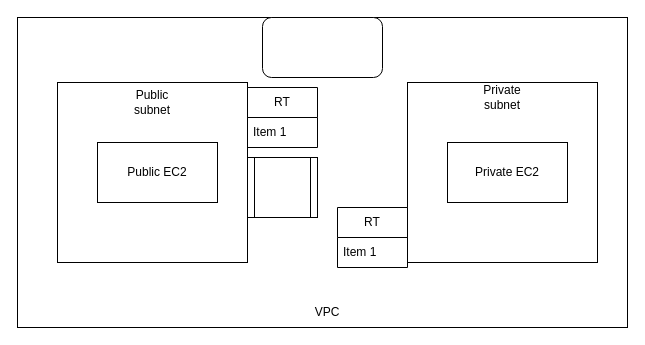
Image size: 645x345. Some labels were removed from this diagram. Here are the shapes that lost their labels. From the top down, the box of each, then its label:
(262, 16, 382, 78): IGW
(246, 156, 318, 218): NAT GW
